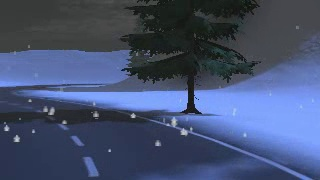Lane: (0, 83, 304, 179)
